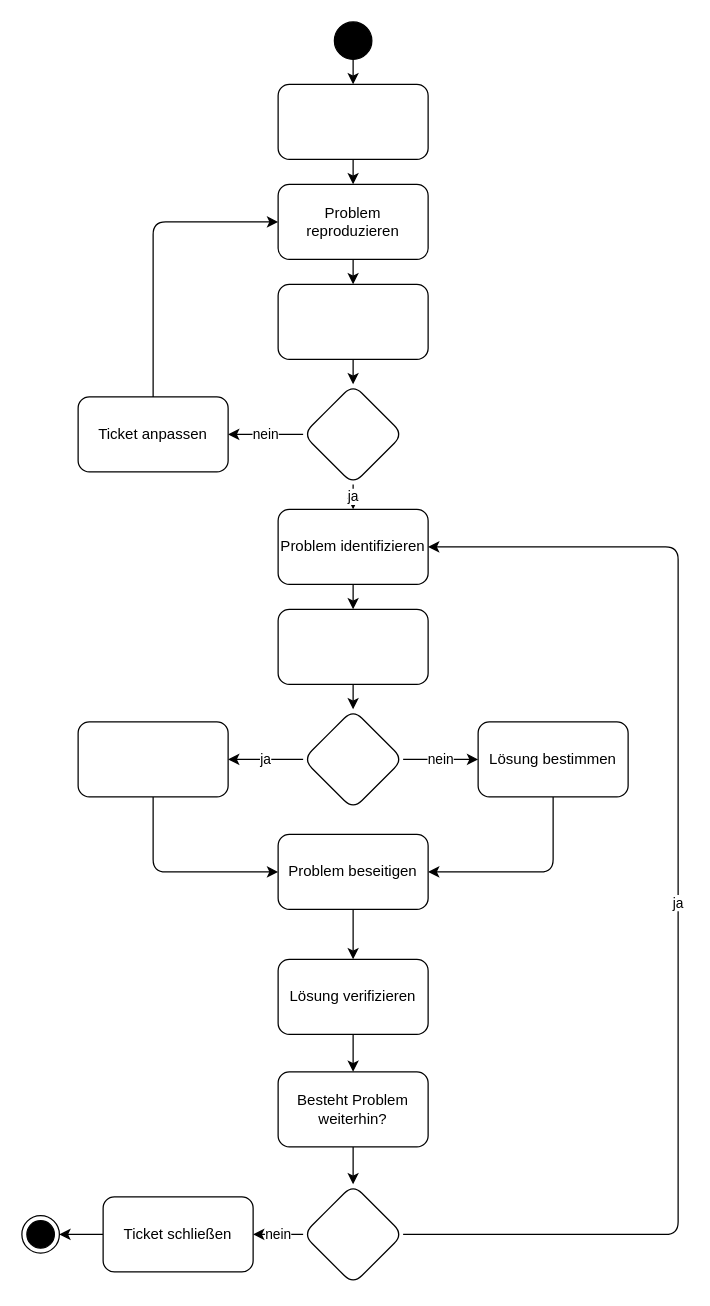
The diagram is 710 pixels wide and 1306 high, and some of its shapes have lost their labels. Here are the shapes that lost their labels. From the top down, the centre of each, then its label:
At point (352, 121): "Ticket erstellen".
At point (352, 321): "Kann Problem reprodutiert werden?".
At point (352, 646): "Ist Problem bekannt?".
At point (152, 759): "Ticken anpassen".
